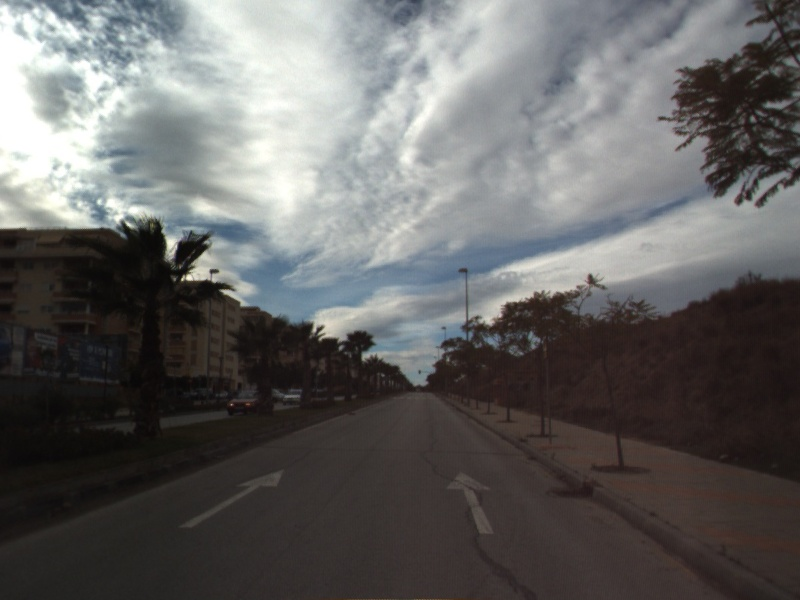STRAIGHT: (177, 467, 286, 530), (444, 469, 496, 536)
